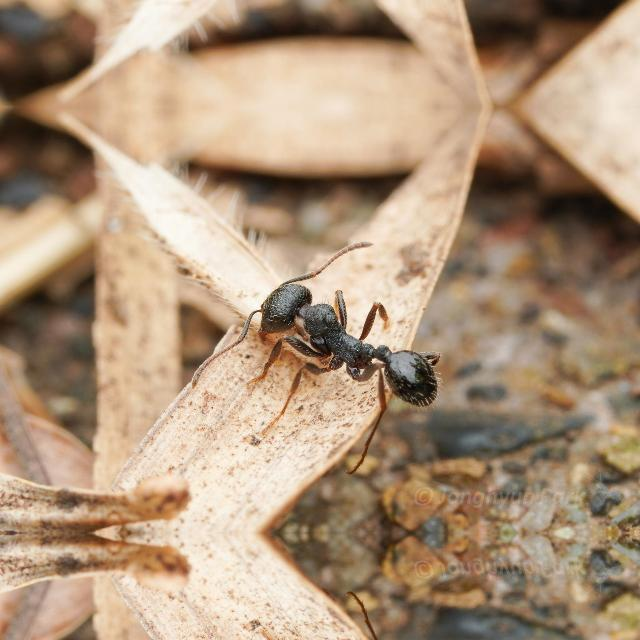Messor: (245, 268, 451, 417)
